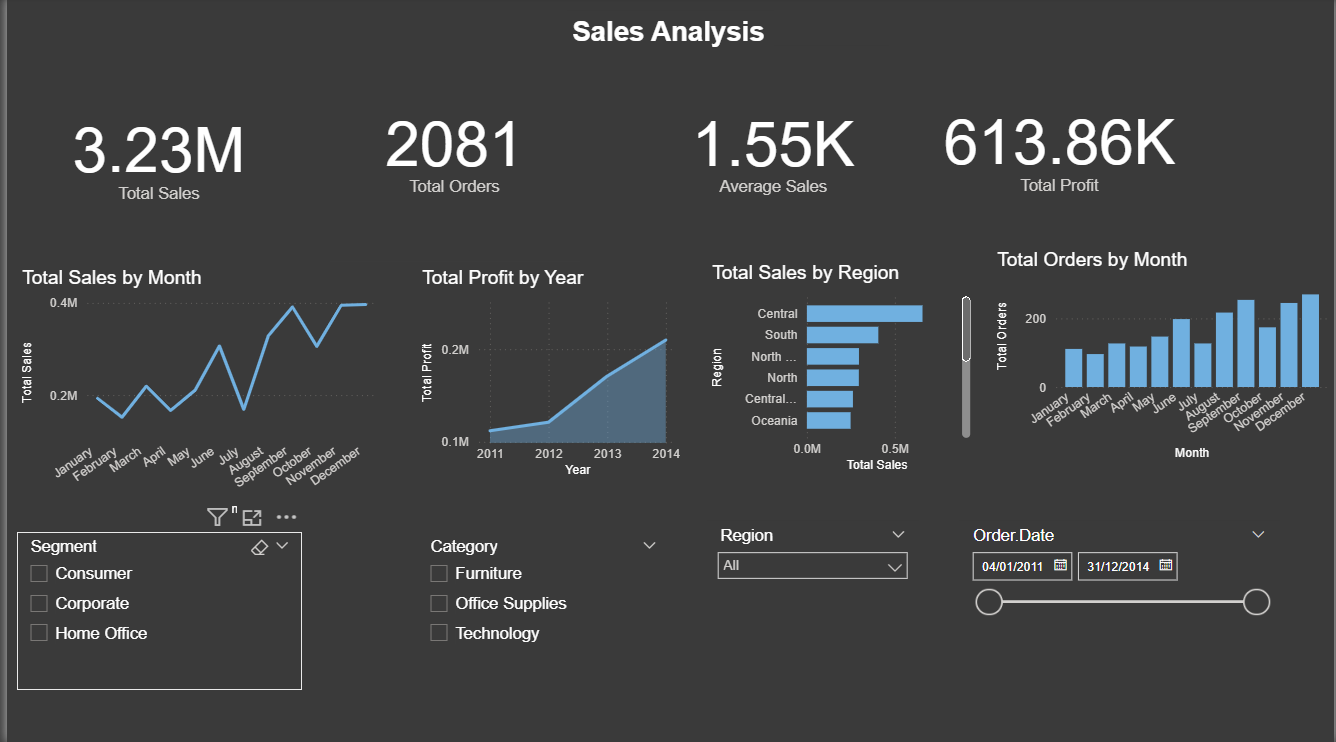

Layout of this report page (visuals, bound fields, positions):
{"tool":"powerbi","page":{"name":"Sales Analysis","canvas":[1280,720],"ordinal":1},"visuals":[{"type":"card","fields":{"Values":["Measures (2).Total Sales"]},"box":[30.2,49.4,233.3,205.8],"z":0},{"type":"card","fields":{"Values":["Measures (2).Total Orders"]},"box":[311.5,35.7,241.5,219.6],"z":1000},{"type":"card","fields":{"Values":["Measures (2).Average Sales"]},"box":[628.5,46.7,222.3,197.6],"z":2000},{"type":"card","fields":{"Values":["Measures (2).Total Profit"]},"box":[879.6,34.3,273.1,220.9],"z":3000},{"type":"lineChart","fields":{"Category":["superstore.Order.Date.Variation.Date Hierarchy.Month"],"Y":["Measures (2).Total Sales"]},"box":[9.7,260.6,351.1,244.9],"z":4000},{"type":"areaChart","fields":{"Category":["superstore.Order.Date.Variation.Date Hierarchy.Year","superstore.Order.Date.Variation.Date Hierarchy.Quarter","superstore.Order.Date.Variation.Date Hierarchy.Month","superstore.Order.Date.Variation.Date Hierarchy.Day"],"Y":["Measures (2).Total Profit"]},"box":[395.7,260.6,259.4,207.5],"z":5000},{"type":"clusteredBarChart","fields":{"Category":["superstore.Region"],"Y":["Measures (2).Total Sales"]},"box":[675.6,255.8,259.4,207.5],"z":6000},{"type":"columnChart","fields":{"Category":["superstore.Order.Date.Variation.Date Hierarchy.Month"],"Y":["Measures (2).Total Orders"]},"box":[950.7,242.5,329.4,208.7],"z":7000},{"type":"slicer","fields":{"Values":["superstore.Segment"]},"box":[9.7,516.4,275.1,152],"z":8000},{"type":"slicer","fields":{"Values":["superstore.Category"]},"box":[395.7,516.4,243.7,161.7],"z":9000},{"type":"slicer","fields":{"Values":["superstore.Region"]},"box":[675.6,505.5,203.9,172.5],"z":10000},{"type":"slicer","fields":{"Values":["superstore.Order.Date"]},"box":[919.3,505.5,307.6,162.9],"z":11000},{"type":"textbox","box":[540.7,13.7,199,45.3],"z":12000}]}

Visuals, with their boxes in screenshot pixels (x1, y1, x2, y2), scaled from the page's 1280x720 canvas onto the 1336x742 screenshot:
card - Measures (2).Total Sales: bbox=(32, 51, 275, 263)
card - Measures (2).Total Orders: bbox=(325, 37, 577, 263)
card - Measures (2).Average Sales: bbox=(656, 48, 888, 252)
card - Measures (2).Total Profit: bbox=(918, 35, 1203, 263)
lineChart - superstore.Order.Date.Variation.Date Hierarchy.Month x Measures (2).Total Sales: bbox=(10, 269, 377, 521)
areaChart - superstore.Order.Date.Variation.Date Hierarchy.Year x superstore.Order.Date.Variation.Date Hierarchy.Quarter: bbox=(413, 269, 684, 482)
clusteredBarChart - superstore.Region x Measures (2).Total Sales: bbox=(705, 264, 976, 477)
columnChart - superstore.Order.Date.Variation.Date Hierarchy.Month x Measures (2).Total Orders: bbox=(992, 250, 1335, 465)
slicer - superstore.Segment: bbox=(10, 532, 297, 689)
slicer - superstore.Category: bbox=(413, 532, 667, 699)
slicer - superstore.Region: bbox=(705, 521, 918, 699)
slicer - superstore.Order.Date: bbox=(960, 521, 1281, 689)
textbox: bbox=(564, 14, 772, 61)
